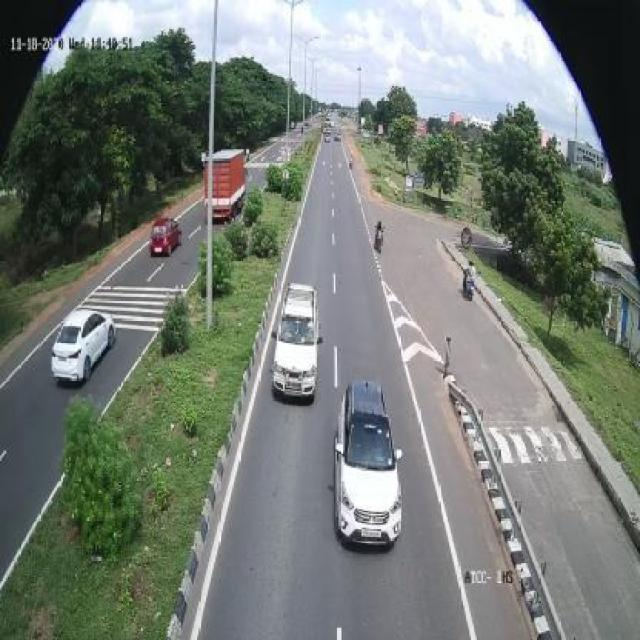car: (339, 372, 403, 551), (42, 295, 118, 383), (276, 277, 324, 405), (151, 210, 180, 262)
